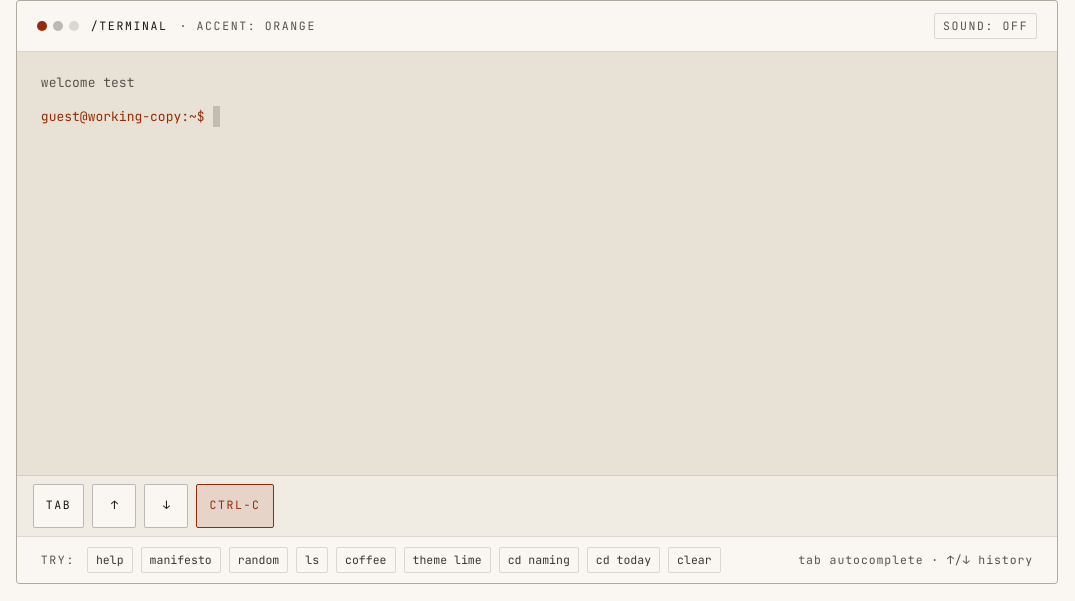
Scenario: <Terminal /> interactive behavior › autocompletes commands, ambiguous command prefixes, and command arguments with Tab
The width and height of the screenshot is (1075, 601).
Later steps or results of the test are not shown.
Type "who" into the field named "terminal command input" at {"x": 623, "y": 116}, box [213,106,1033,127]
Press Tab
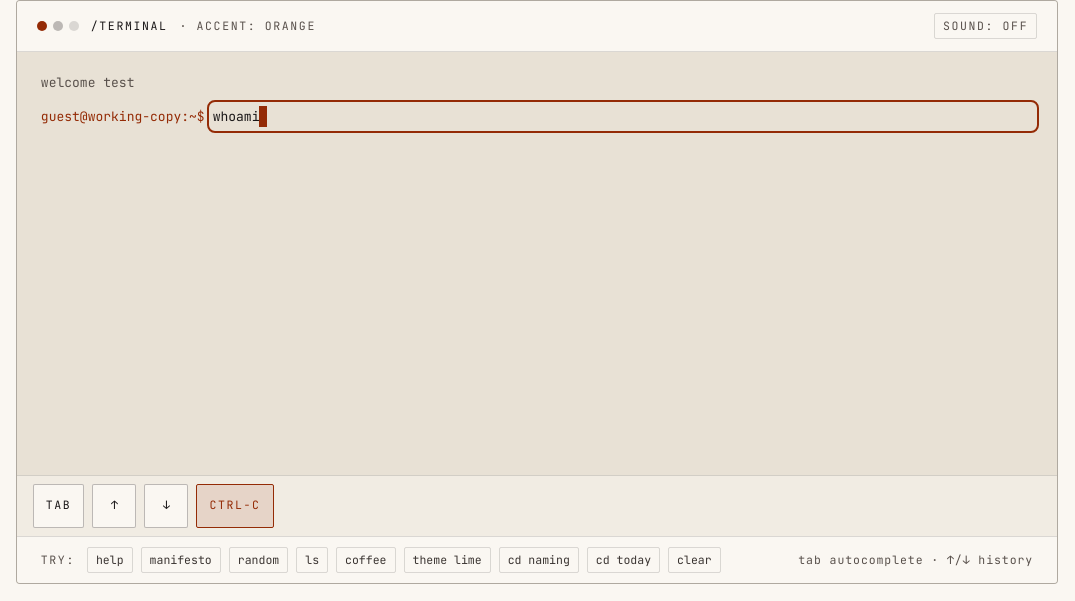
expect the field named "terminal command input" holds "whoami": met
Replace the text in the field named "terminal command input" with "the" at {"x": 623, "y": 116}, box [213,106,1033,127]
Press Tab
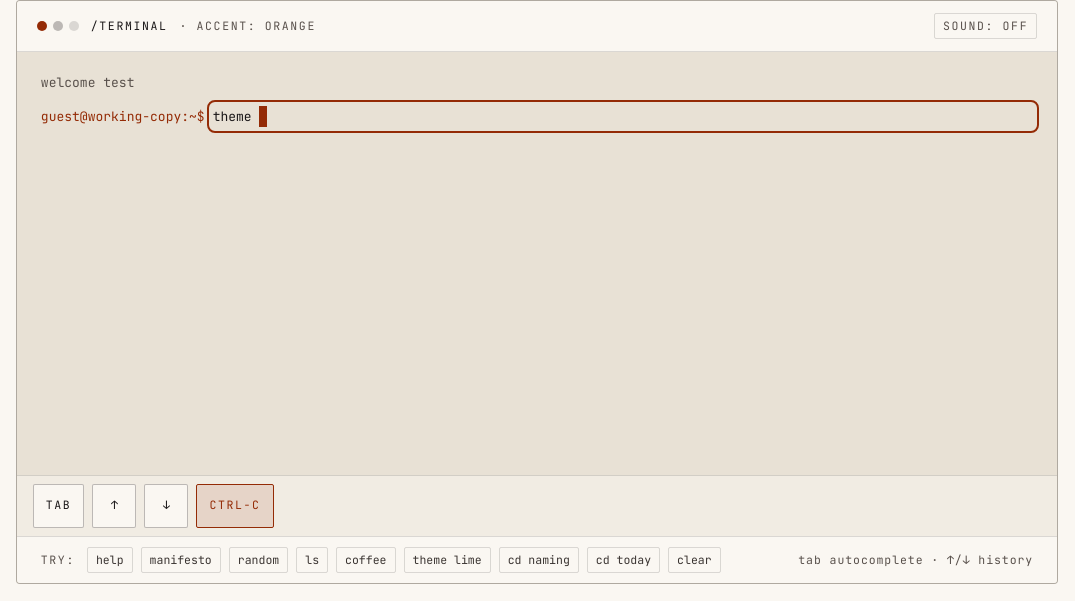
expect the field named "terminal command input" holds "theme ": met
Type "li" into the field named "terminal command input" at {"x": 623, "y": 116}, box [213,106,1033,127]
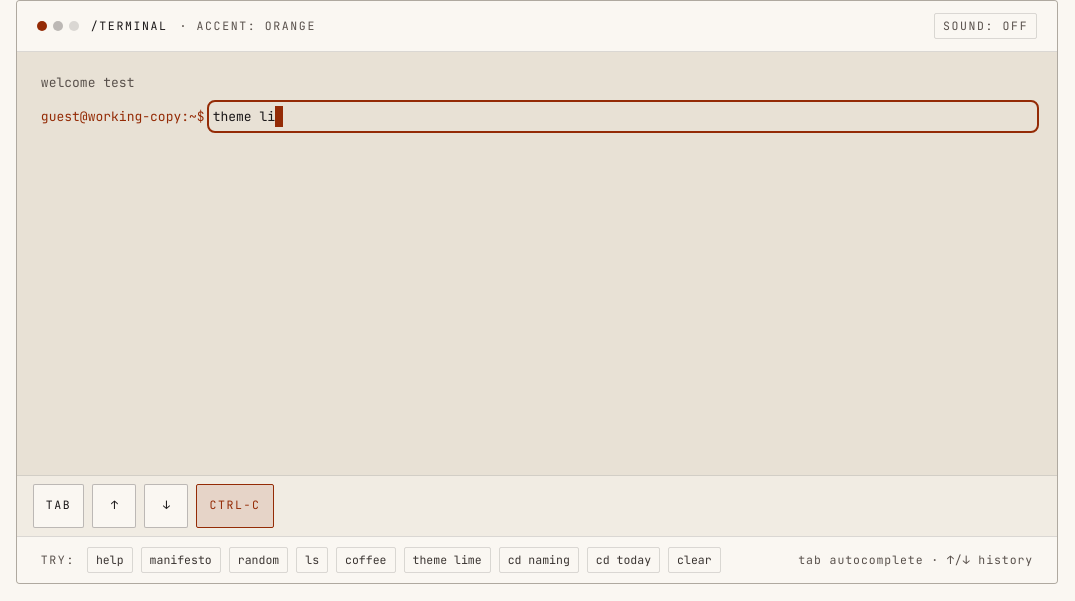
Press Tab
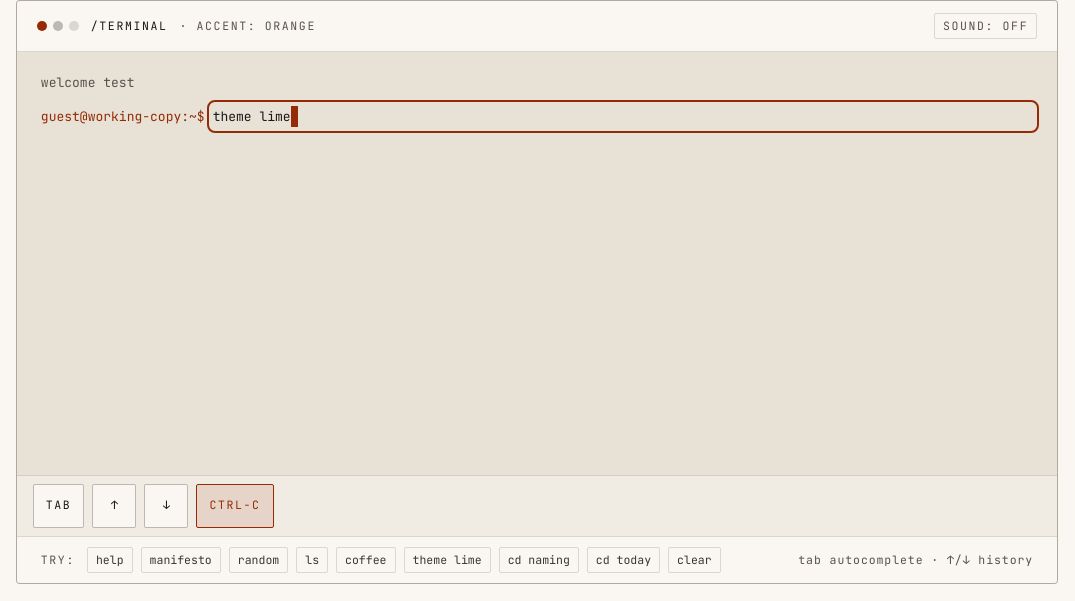
expect the field named "terminal command input" holds "theme lime": met
Replace the text in the field named "terminal command input" with "cd pl" at {"x": 623, "y": 116}, box [213,106,1033,127]
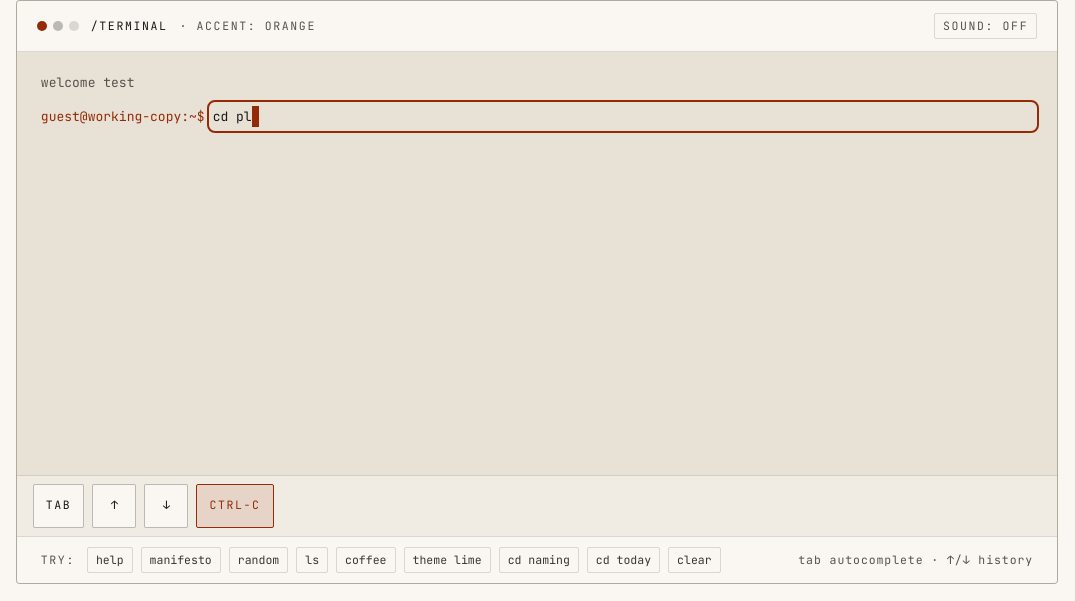
Press Tab
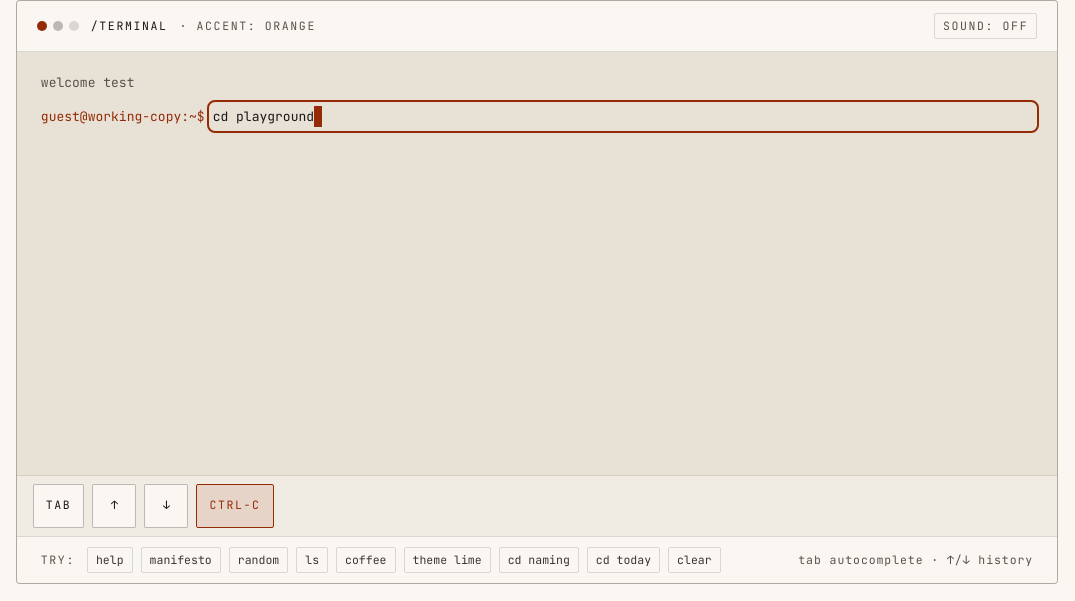
expect the field named "terminal command input" holds "cd playground": met, box [213,106,1033,127]
